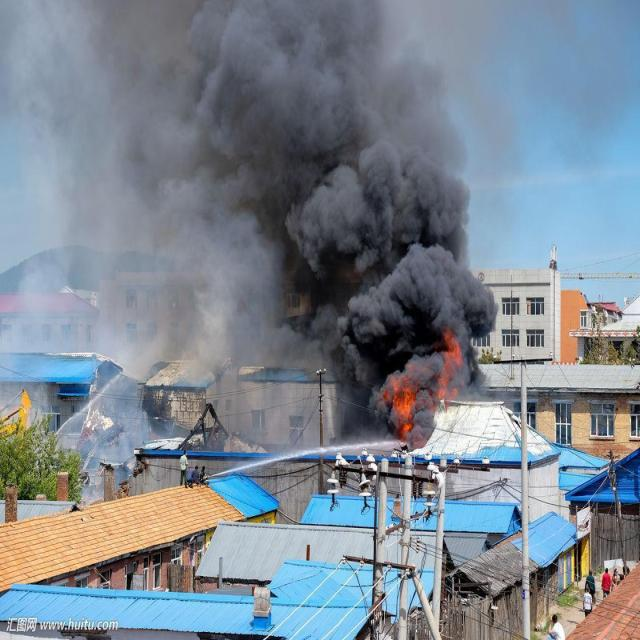fire: (379, 332, 462, 438)
smoke: (0, 0, 631, 440)
